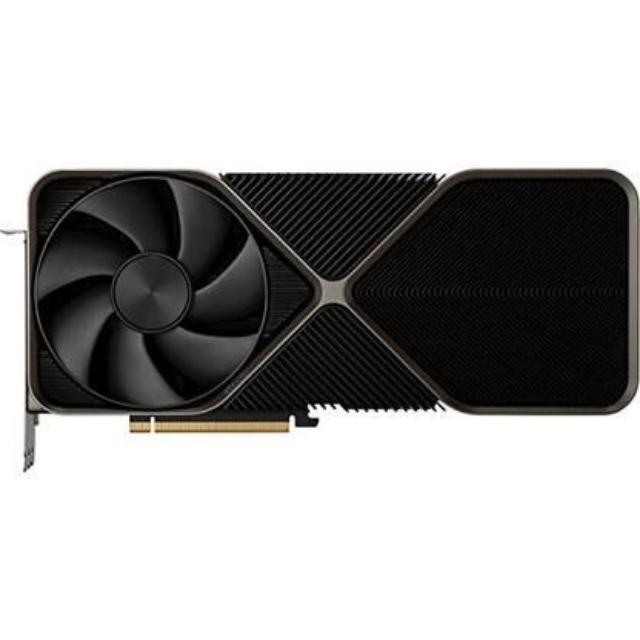GPU: (20, 166, 640, 434)
